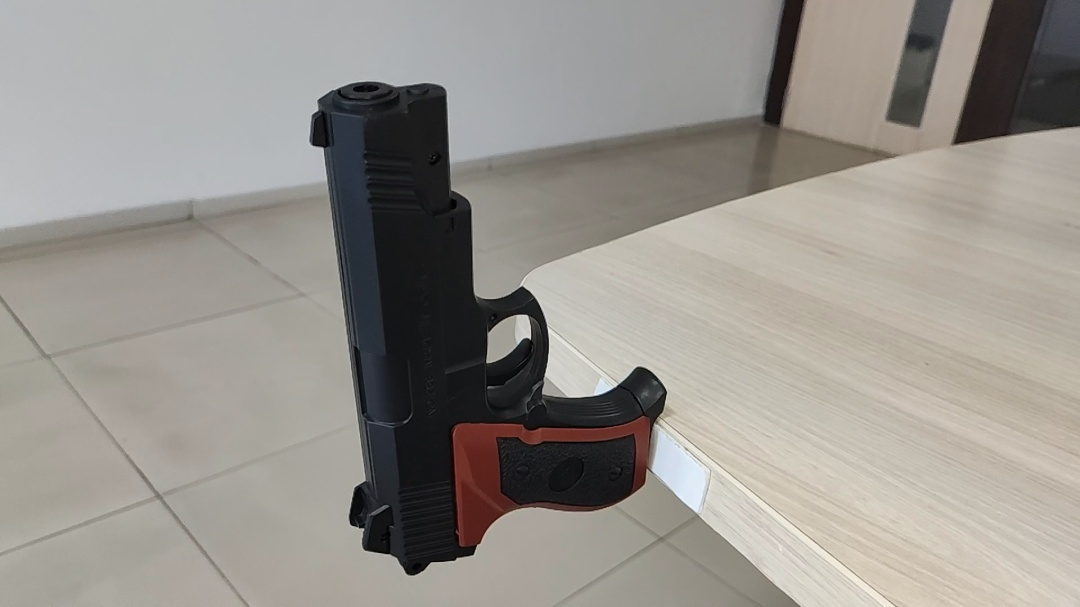gun: (373, 301, 415, 316)
